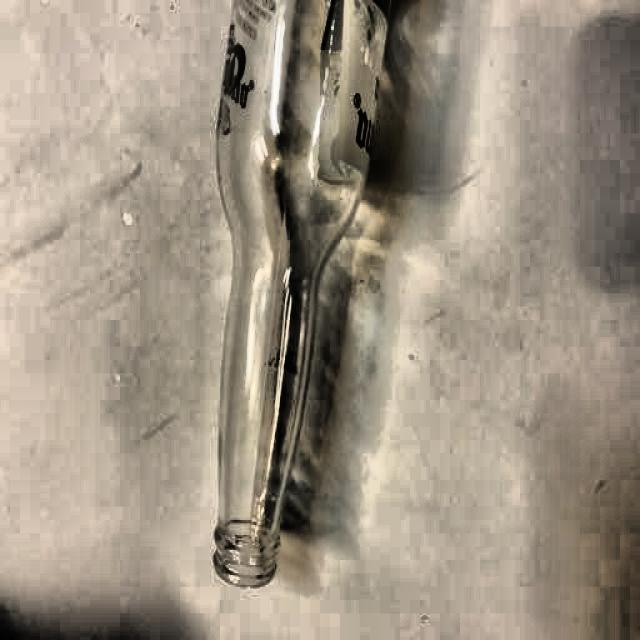glass: (211, 0, 392, 593)
